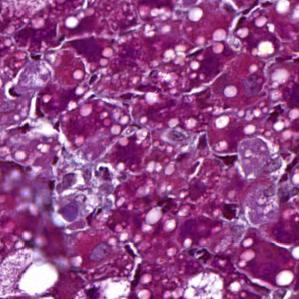ballooning: (4, 246, 61, 295), (184, 268, 225, 299)
